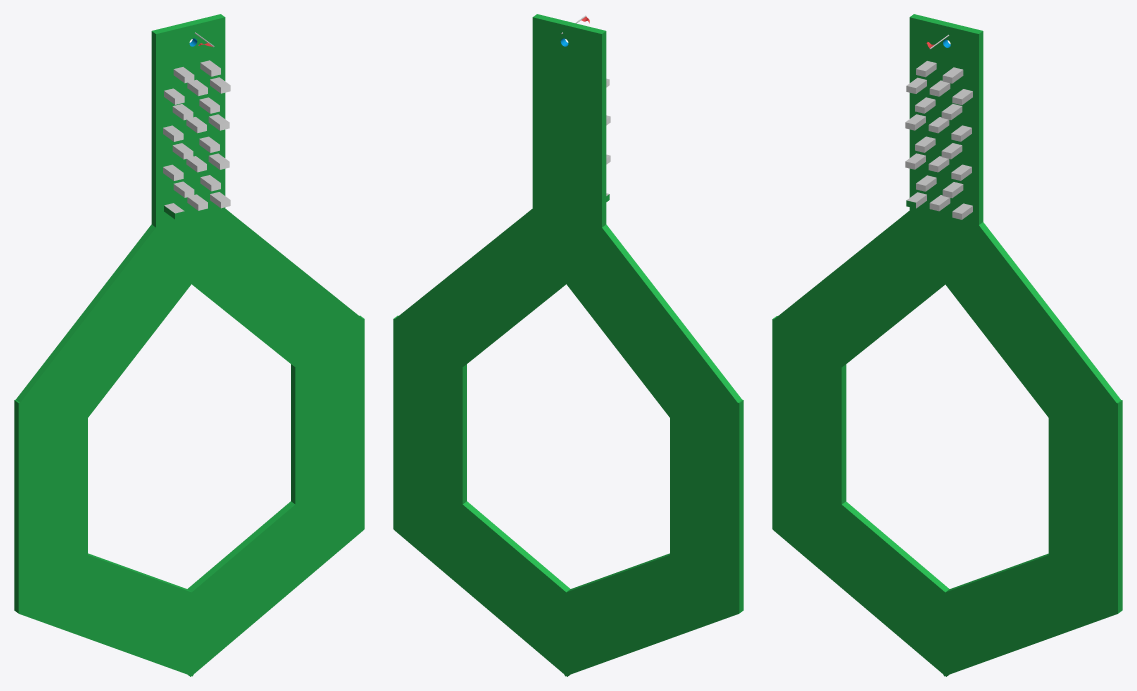
The model's file is fase 5 unity.obj.
3 views of the same model, side by side, from view 1: azimuth 30°, elevation 25°; view 2: azimuth 150°, elevation 25°; view 3: azimuth 330°, elevation 25° (orthographic).
Parts seen in each view (by area): view 1: Object.5, Object.3, Object.6, Object.4, Object.27, Object.2, Object.1; view 2: Object.27, Object.1, Object.6, Object.5, Object.4, Object.3, Object.2; view 3: Object.6, Object.5, Object.3, Object.2, Object.4, Object.27, Object.1.
Part boxes in pixels (bbox=[...]): Object.5: bbox=[16, 224, 209, 443]; Object.3: bbox=[291, 315, 364, 545]; Object.6: bbox=[192, 209, 364, 381]; Object.4: bbox=[14, 399, 87, 613]; Object.27: bbox=[151, 14, 225, 257]; Object.2: bbox=[14, 542, 227, 676]; Object.1: bbox=[156, 482, 364, 676]; Object.27: bbox=[532, 14, 606, 245]; Object.1: bbox=[393, 475, 601, 676]; Object.6: bbox=[395, 206, 583, 382]; Object.5: bbox=[566, 221, 741, 417]; Object.4: bbox=[670, 386, 743, 613]; Object.3: bbox=[393, 315, 466, 528]; Object.2: bbox=[564, 542, 743, 676]; Object.6: bbox=[945, 222, 1120, 443]; Object.5: bbox=[772, 211, 962, 383]; Object.3: bbox=[1048, 395, 1122, 613]; Object.2: bbox=[773, 477, 980, 676]; Object.4: bbox=[772, 316, 846, 545]; Object.27: bbox=[909, 14, 983, 257]; Object.1: bbox=[910, 553, 1121, 676].
Size of the model in its own units: 180 by 323 by 21.73.
